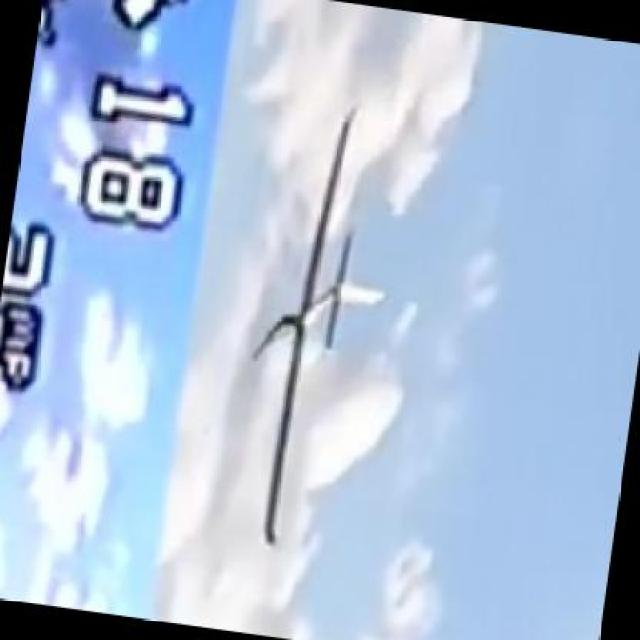iha: (240, 96, 388, 550)
